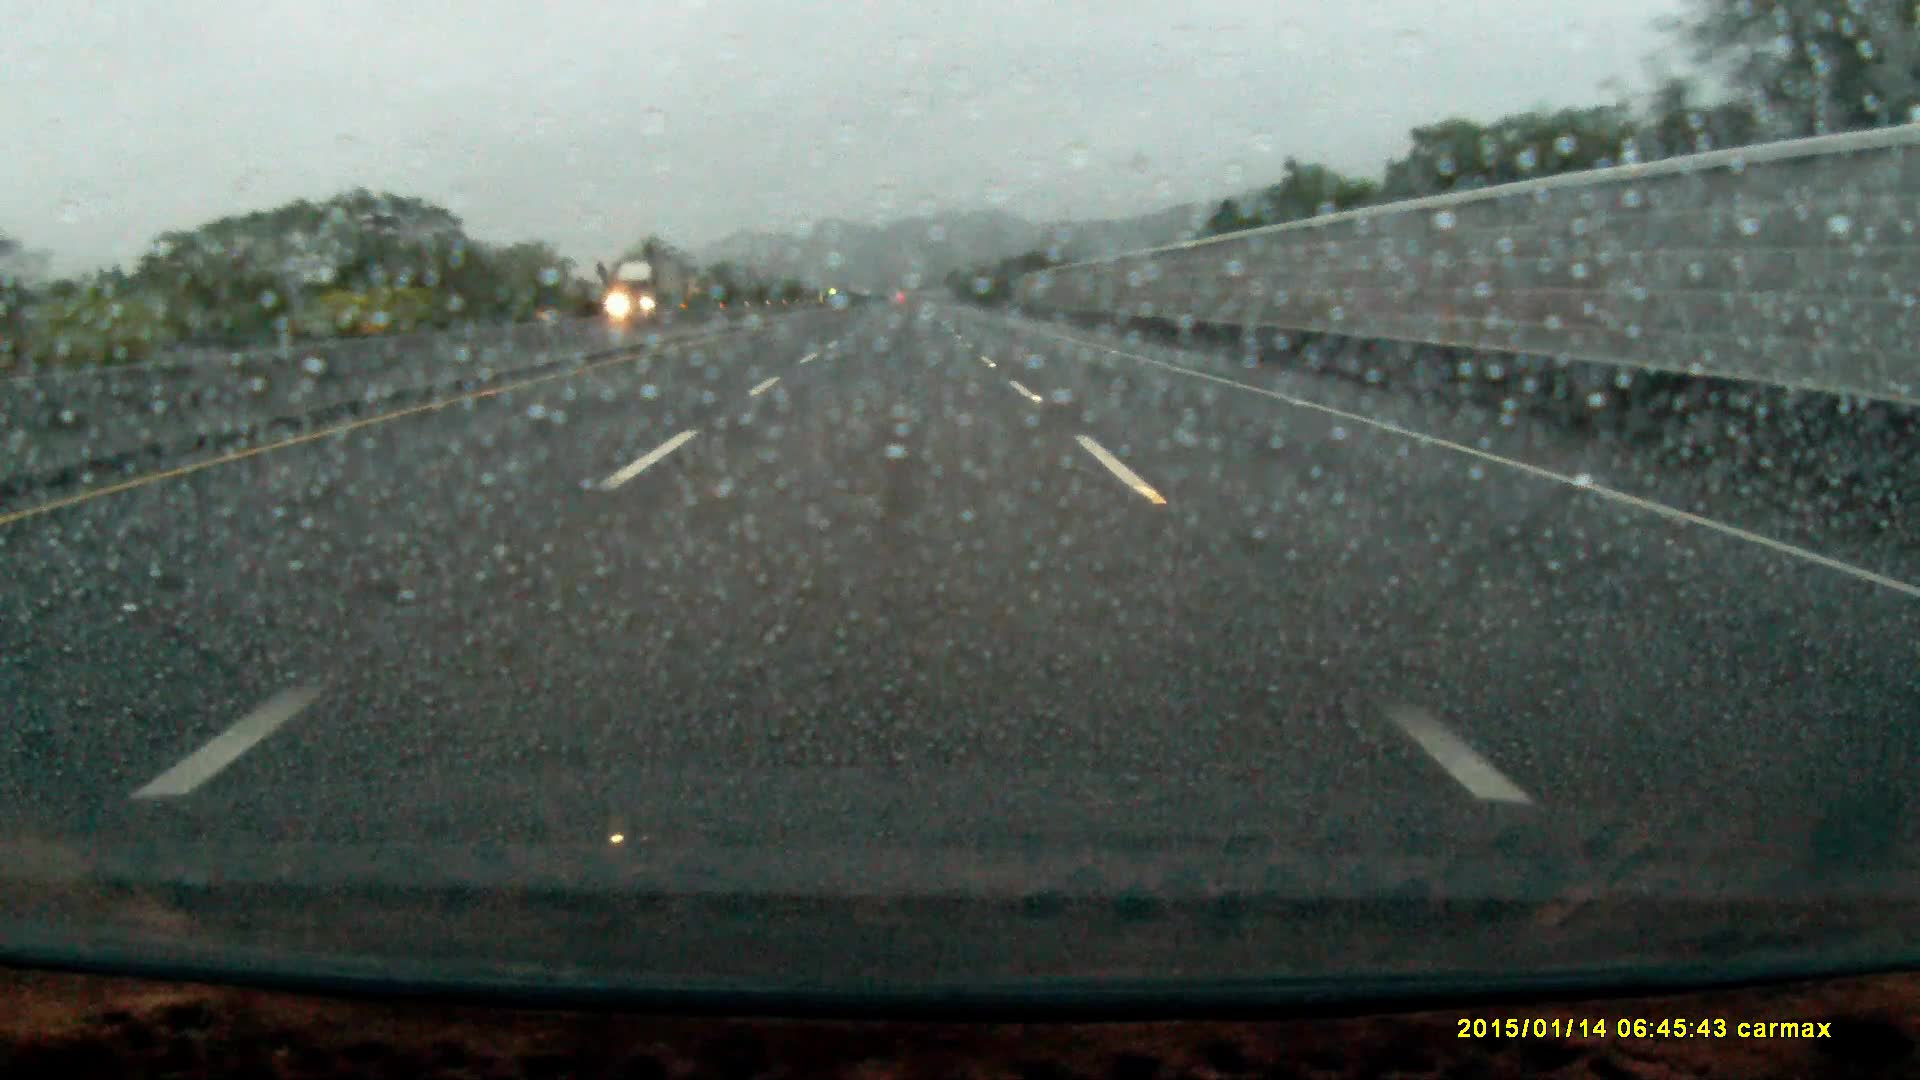vehicle: (607, 262, 688, 319)
